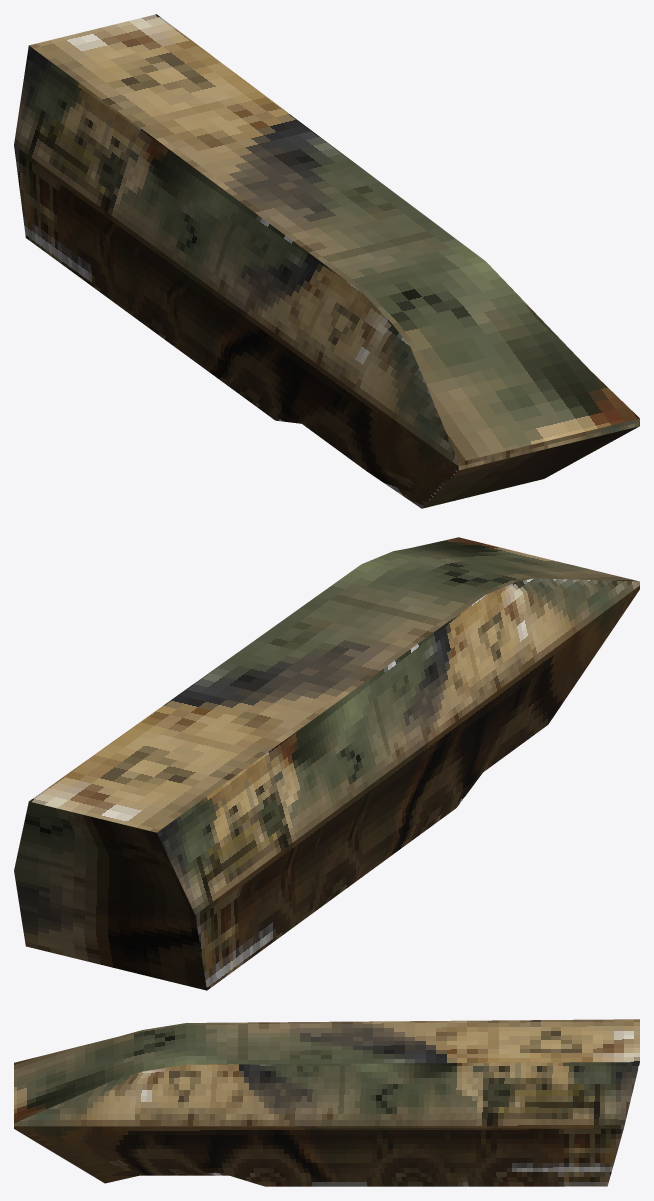
File: tank.glb
3 renders of one model, top to bottom at view 1: azimuth 30°, elevation 25°; view 2: azimuth 150°, elevation 25°; view 3: azimuth 270°, elevation 25°, orthographic. The views are drawn at different scales.
Visible parts, largest first — view 1: Cube; view 2: Cube; view 3: Cube.
Part boxes in pixels (<box>): Cube: <box>14,14,639,508</box>; Cube: <box>14,537,639,990</box>; Cube: <box>14,1019,639,1186</box>.
Size of the model in its own units: 2 by 1.88 by 8.73.
1 material, 1 textured.
